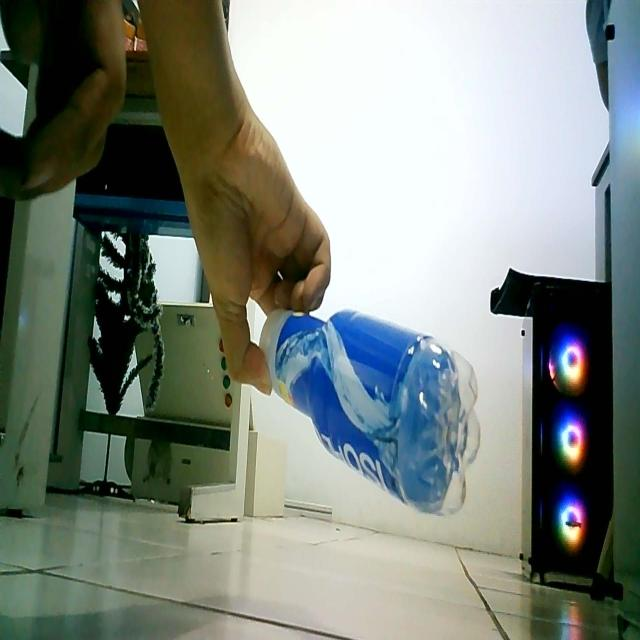botol: (238, 280, 494, 539)
